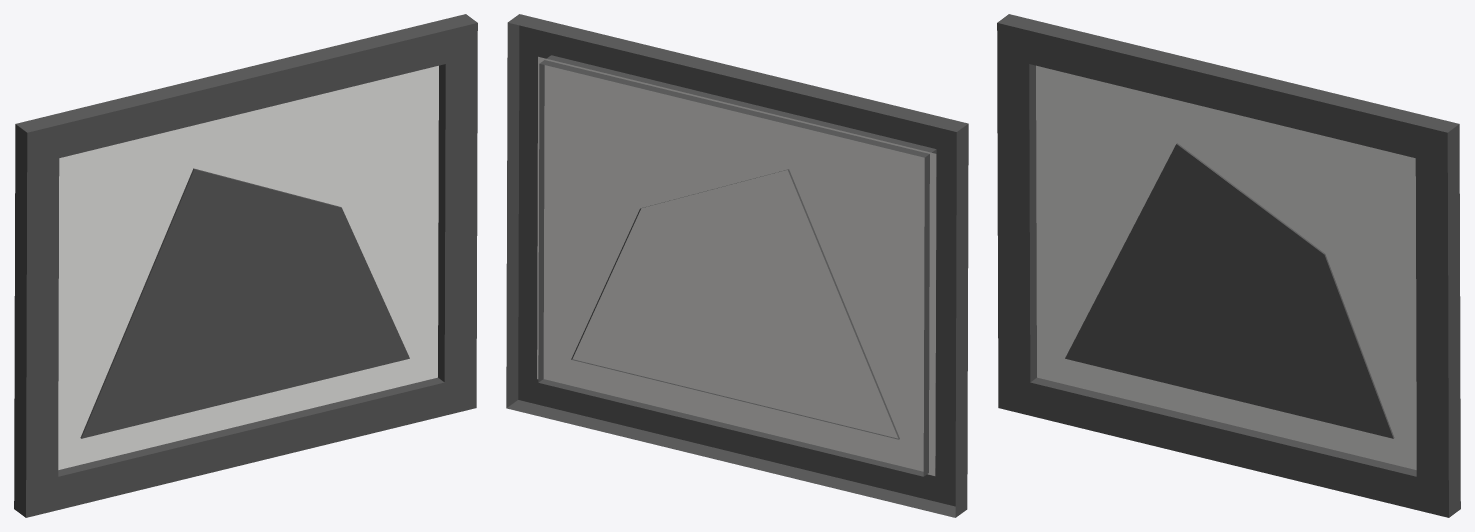
The model's file is Photoframe_11.fbx.
The picture shows the model from 3 angles, left to right: view 1: azimuth 30°, elevation 25°; view 2: azimuth 150°, elevation 25°; view 3: azimuth 330°, elevation 25°; orthographic projection.
Parts seen in each view (by area): view 1: Photoframe_11; view 2: Photoframe_11; view 3: Photoframe_11.
Boxes of the visible parts, box(x1,y1,x2,y2) form: Photoframe_11: box(14, 14, 477, 517); Photoframe_11: box(506, 14, 968, 517); Photoframe_11: box(997, 14, 1460, 517).
Size of the model in its own units: 70.82 by 3.58 by 58.01.
